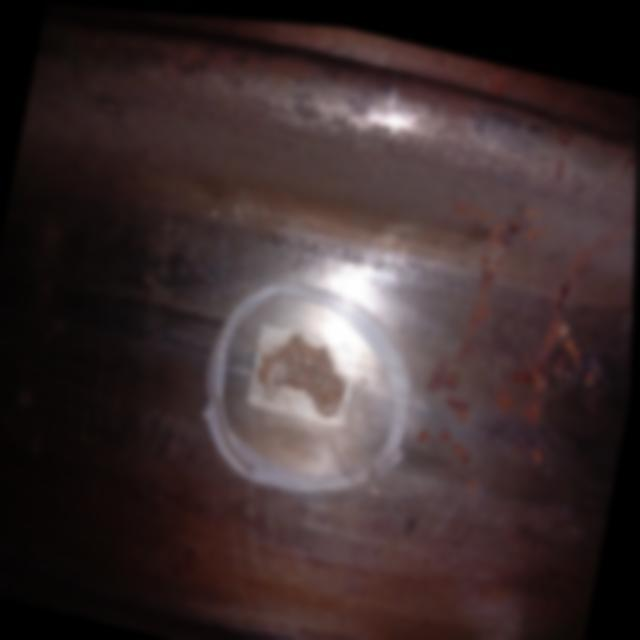Peeling: (250, 320, 362, 423)
